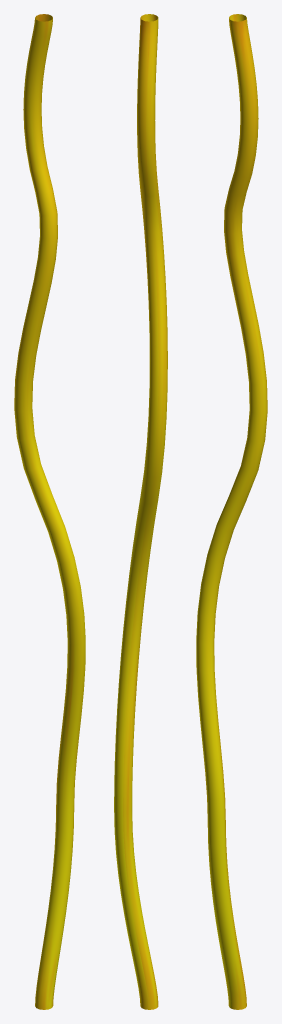
Rendered from test_wallwires_9.fbx.
The picture shows the model from 3 angles, left to right: view 1: azimuth 90°, elevation 25°; view 2: azimuth 210°, elevation 25°; view 3: azimuth 270°, elevation 25°; orthographic projection.
Visible parts, largest first — view 1: wallwires9; view 2: wallwires9; view 3: wallwires9.
Part boxes in pixels (x1=…): wallwires9: x1=14, y1=14, x2=85, y2=1009; wallwires9: x1=114, y1=14, x2=167, y2=1009; wallwires9: x1=196, y1=14, x2=267, y2=1009.
Size of the model in its own units: 9.77 by 240 by 15.78.
